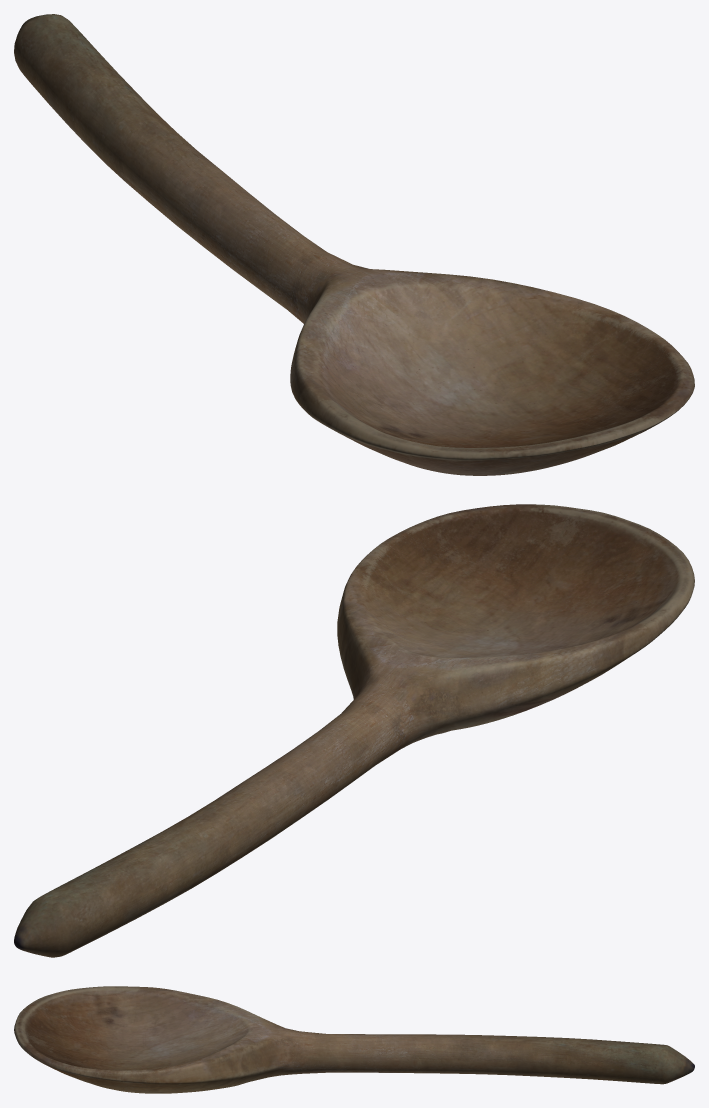
Rendered from wooden_spoon_2k.fbx.
The picture shows the model from 3 angles, top to bottom: view 1: azimuth 30°, elevation 25°; view 2: azimuth 150°, elevation 25°; view 3: azimuth 270°, elevation 25°; orthographic projection. The views are drawn at different scales.
Parts seen in each view (by area): view 1: wooden_spoon; view 2: wooden_spoon; view 3: wooden_spoon.
Part boxes in pixels (box(x1,y1,x2,y2)): wooden_spoon: box(14, 14, 694, 475); wooden_spoon: box(14, 504, 694, 957); wooden_spoon: box(14, 986, 694, 1093).
Size of the model in its own units: 8.67 by 2.51 by 27.76.
1 material, 1 textured.
